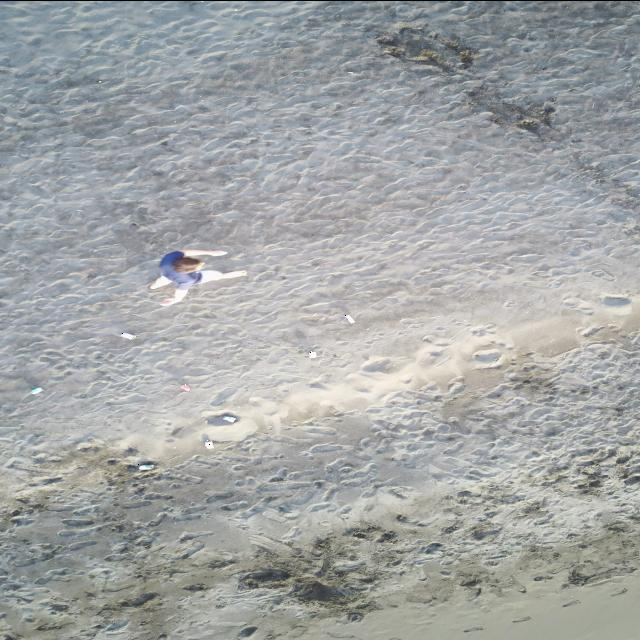Garbage: (208, 412, 239, 424), (139, 460, 155, 470), (222, 413, 236, 422), (120, 332, 135, 339), (344, 313, 353, 323), (203, 439, 212, 447), (31, 387, 42, 393), (180, 384, 190, 390), (308, 351, 316, 356)
